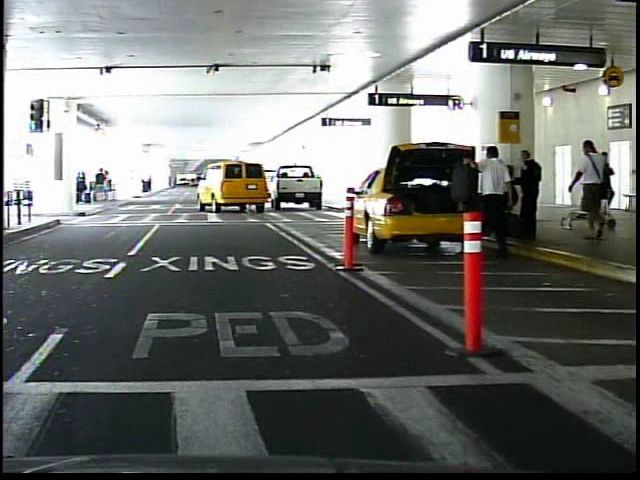person: (566, 138, 611, 240)
